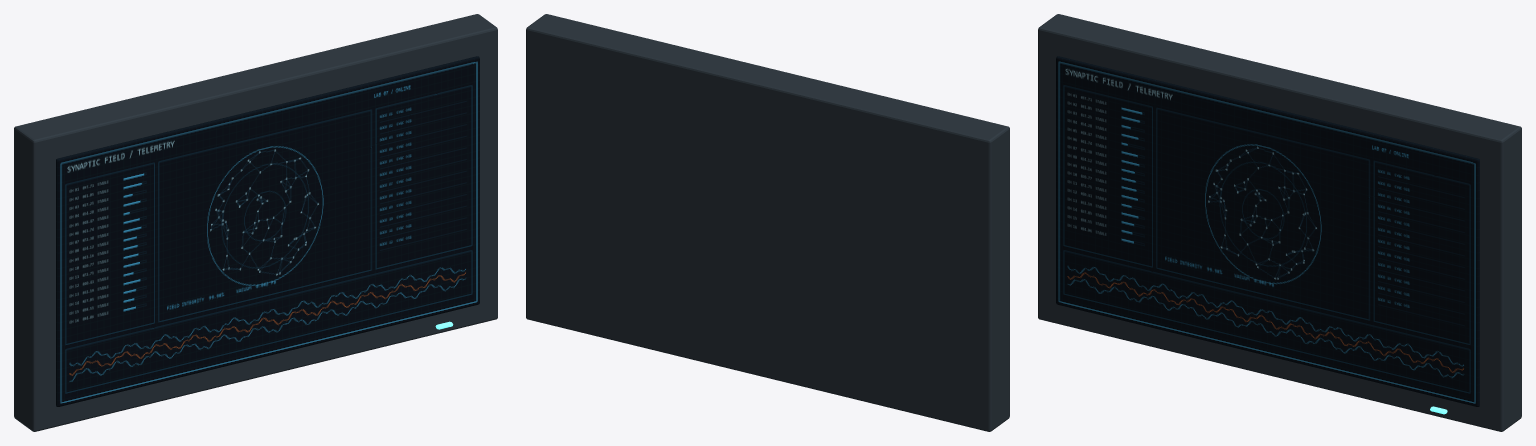
The model's file is SM_Lab_Console__Display_01.fbx.
3 views of the same model, side by side, from view 1: azimuth 30°, elevation 25°; view 2: azimuth 150°, elevation 25°; view 3: azimuth 330°, elevation 25° (orthographic).
Visible parts, largest first — view 1: SM_Lab_Console__Display_01; view 2: SM_Lab_Console__Display_01; view 3: SM_Lab_Console__Display_01.
Boxes of the visible parts, x1=… form: SM_Lab_Console__Display_01: x1=14, y1=14, x2=497, y2=431; SM_Lab_Console__Display_01: x1=526, y1=14, x2=1009, y2=431; SM_Lab_Console__Display_01: x1=1038, y1=14, x2=1521, y2=431.
Bounding box in the file's own units: 72.5 × 7.2 × 43.5.
